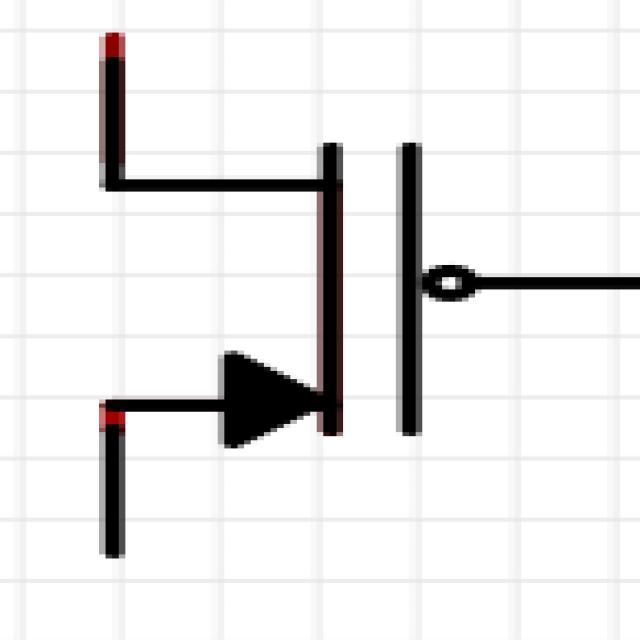pmos: (32, 64, 640, 550)
